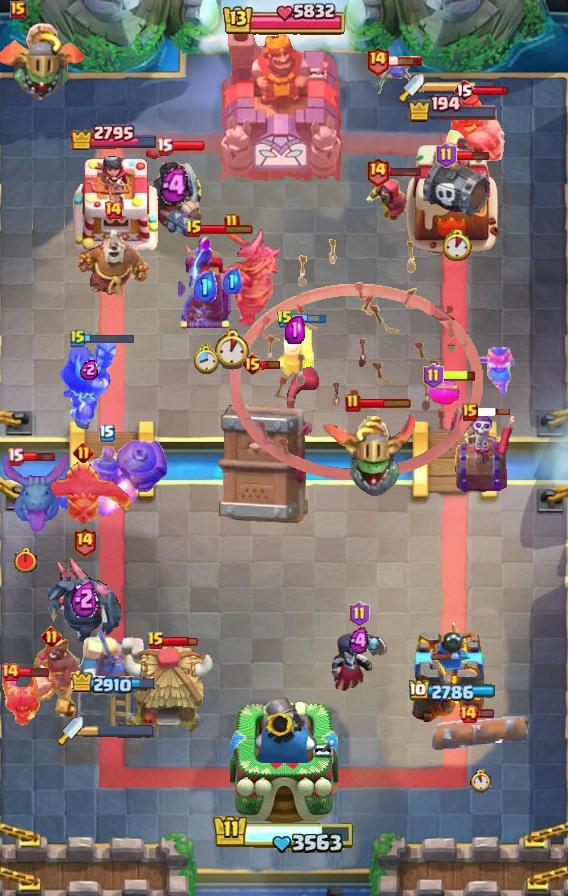bar: (403, 124, 503, 256), (75, 623, 153, 731)
barbarian: (377, 60, 417, 98)
bowler: (364, 177, 416, 225)
clock: (212, 814, 356, 856), (221, 0, 347, 40)
dart-goblin: (217, 367, 321, 525)
electro-spirit: (160, 166, 188, 206), (70, 578, 97, 618), (194, 270, 217, 301), (285, 316, 305, 344), (349, 627, 369, 655), (223, 268, 242, 294), (81, 359, 100, 380)
electro-wizard: (0, 452, 74, 532)
elite-barbarian: (449, 90, 509, 166)
elixir: (213, 329, 252, 371), (444, 229, 472, 261), (193, 343, 219, 374), (14, 546, 39, 574), (468, 769, 491, 793)
elixir-collector: (74, 224, 152, 300)
emote: (201, 223, 254, 235), (359, 397, 412, 409), (84, 332, 136, 344), (441, 370, 477, 383), (20, 450, 55, 463), (387, 55, 423, 67), (170, 140, 206, 152), (14, 666, 50, 678), (162, 635, 197, 647), (473, 84, 510, 95), (454, 150, 490, 161), (387, 166, 422, 177), (293, 313, 328, 324), (475, 407, 511, 417), (261, 358, 281, 370), (477, 708, 496, 720)
freeze: (22, 636, 80, 722)
golden-knight: (1, 669, 43, 729)
golemite: (182, 222, 282, 330), (47, 557, 121, 645)
hog-rider: (469, 345, 517, 399)
ice-spirit-evolution-symbol: (175, 234, 235, 330)
inferno-dragon: (143, 148, 205, 240), (60, 335, 118, 429)
king-tower: (219, 21, 349, 181), (230, 692, 338, 826)
king-tower-bar: (424, 80, 496, 94), (83, 724, 155, 738)
miner: (429, 375, 461, 405)
minion: (429, 714, 531, 750)
mother-witch: (33, 454, 133, 526)
night-witch: (318, 406, 416, 498), (0, 22, 90, 102)
prince: (120, 645, 214, 735)
queen-tower: (67, 152, 161, 256), (411, 619, 495, 731)
rascal-boy: (328, 629, 390, 695)
royal-recruit-evolution: (420, 158, 494, 222)
selected: (407, 94, 499, 123), (69, 122, 159, 150), (70, 671, 157, 697), (410, 680, 499, 703)
skeleton-barrel: (229, 237, 483, 481)
skeleton-king-bar: (447, 408, 515, 494)
text: (71, 527, 96, 558), (366, 44, 390, 75), (366, 156, 390, 187), (241, 352, 264, 376), (435, 142, 456, 168), (424, 363, 445, 389), (350, 601, 371, 627), (453, 78, 475, 102), (73, 441, 94, 462), (41, 625, 62, 646), (103, 200, 123, 220), (0, 662, 20, 682), (458, 704, 478, 724), (185, 219, 203, 239), (276, 309, 294, 329), (147, 631, 165, 651), (7, 447, 25, 466), (155, 136, 172, 155), (224, 213, 240, 233), (70, 328, 86, 348), (345, 393, 361, 413), (10, 1, 26, 19), (462, 403, 478, 421), (99, 424, 115, 442)
tombstone: (274, 320, 316, 378)
wizard: (45, 439, 169, 517)
